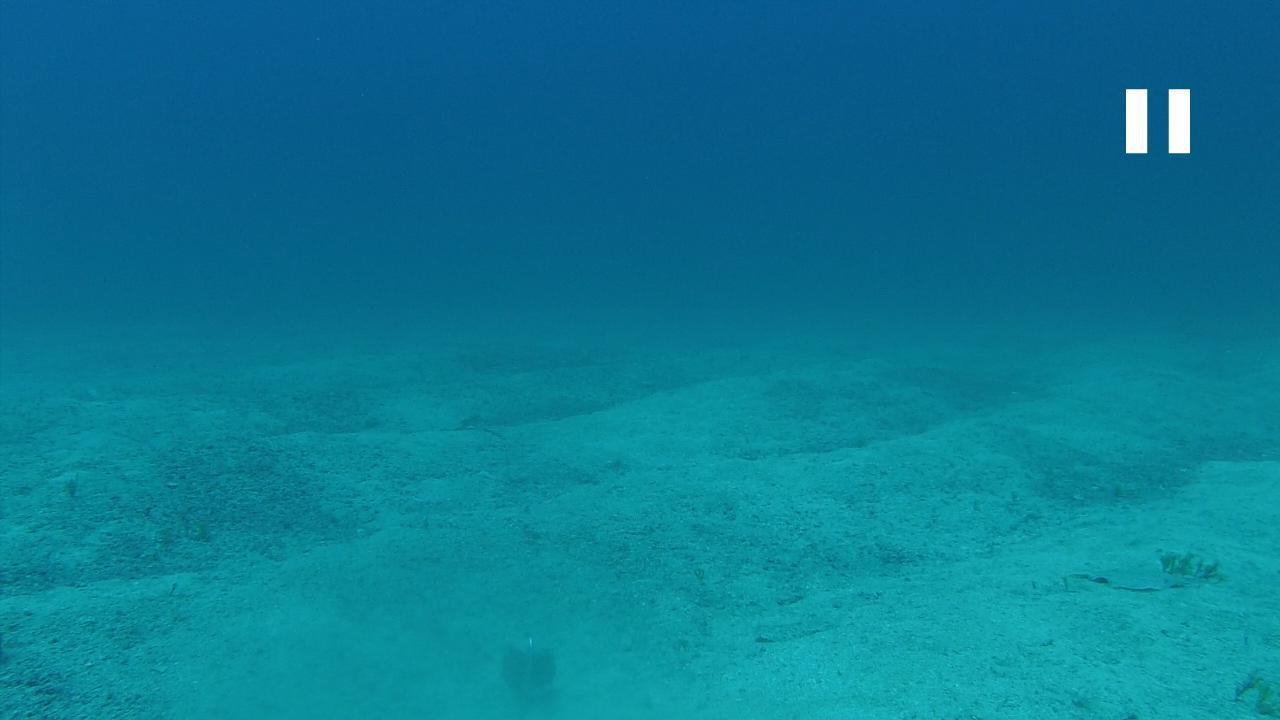bothus: (1064, 560, 1185, 596), (745, 609, 842, 646)
